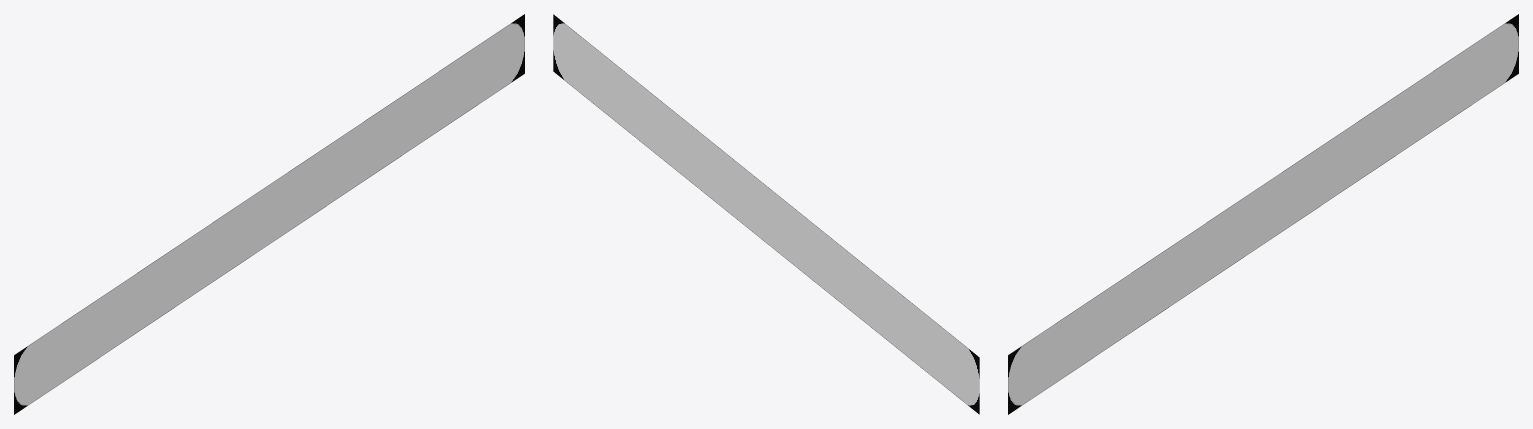
3 renders of one model, left to right at view 1: azimuth 90°, elevation 25°; view 2: azimuth 150°, elevation 25°; view 3: azimuth 270°, elevation 25°, orthographic. The views are drawn at different scales.
Parts seen in each view (by area): view 1: Joint_0_Object_0; view 2: Joint_0_Object_0; view 3: Joint_0_Object_0.
Part boxes in pixels (bbox=[...]): Joint_0_Object_0: bbox=[14, 14, 524, 414]; Joint_0_Object_0: bbox=[553, 14, 979, 414]; Joint_0_Object_0: bbox=[1008, 14, 1518, 414].
Bounding box in the file's own units: 471 × 38.4 × 298.
1 material, 1 textured.
